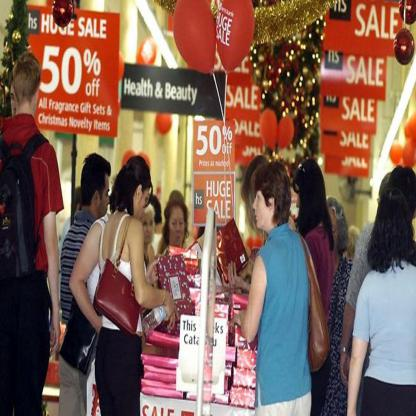face: (253, 182, 270, 231), (325, 213, 340, 258), (170, 209, 185, 247), (12, 82, 26, 122), (139, 184, 151, 222), (99, 175, 110, 216), (297, 181, 306, 220), (143, 212, 153, 244)
